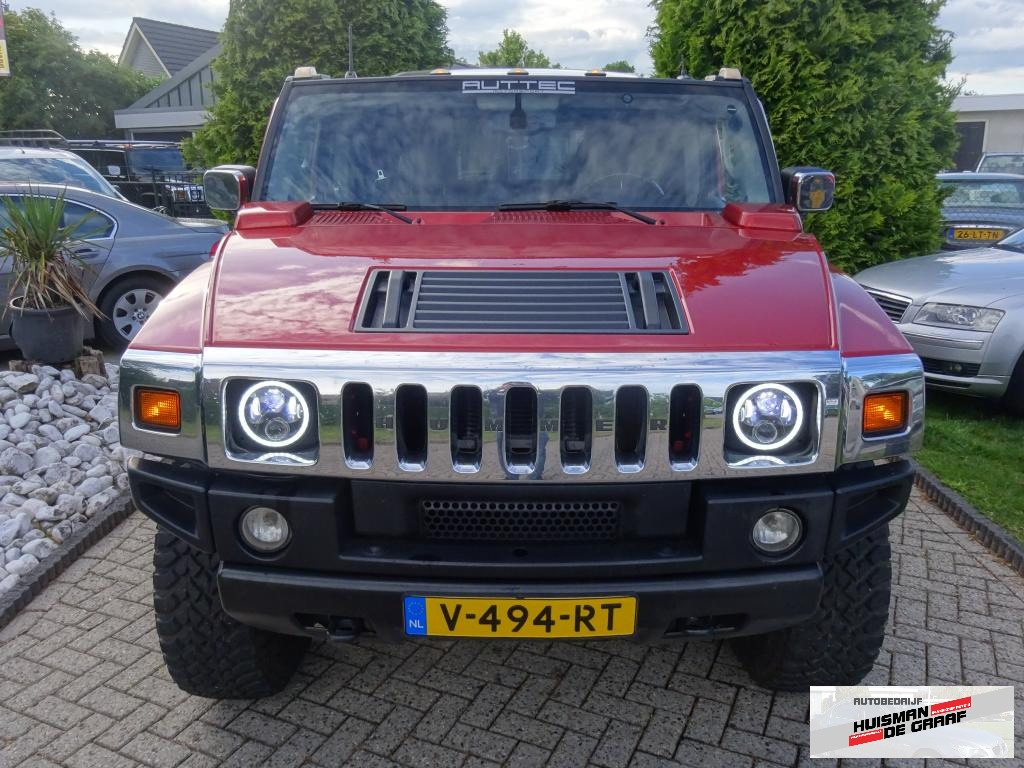number_plate: (397, 590, 645, 641)
